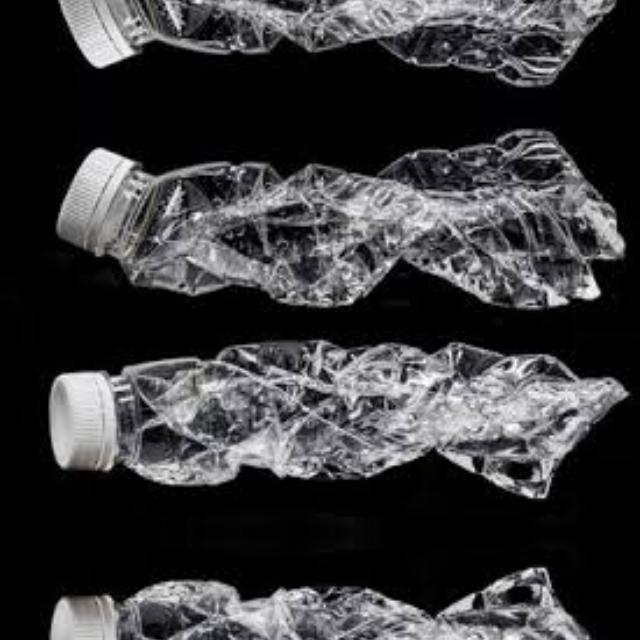Plastic: (13, 128, 633, 324), (33, 340, 633, 508), (13, 0, 633, 85), (33, 557, 633, 640)
